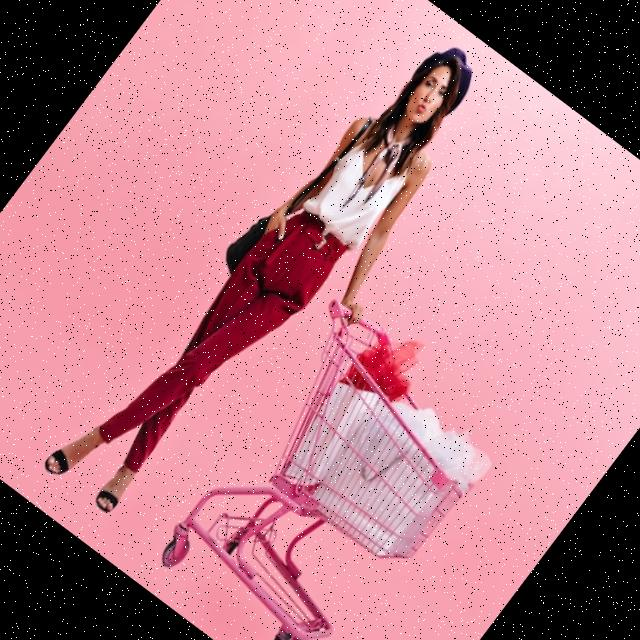Person: (40, 0, 526, 567)
